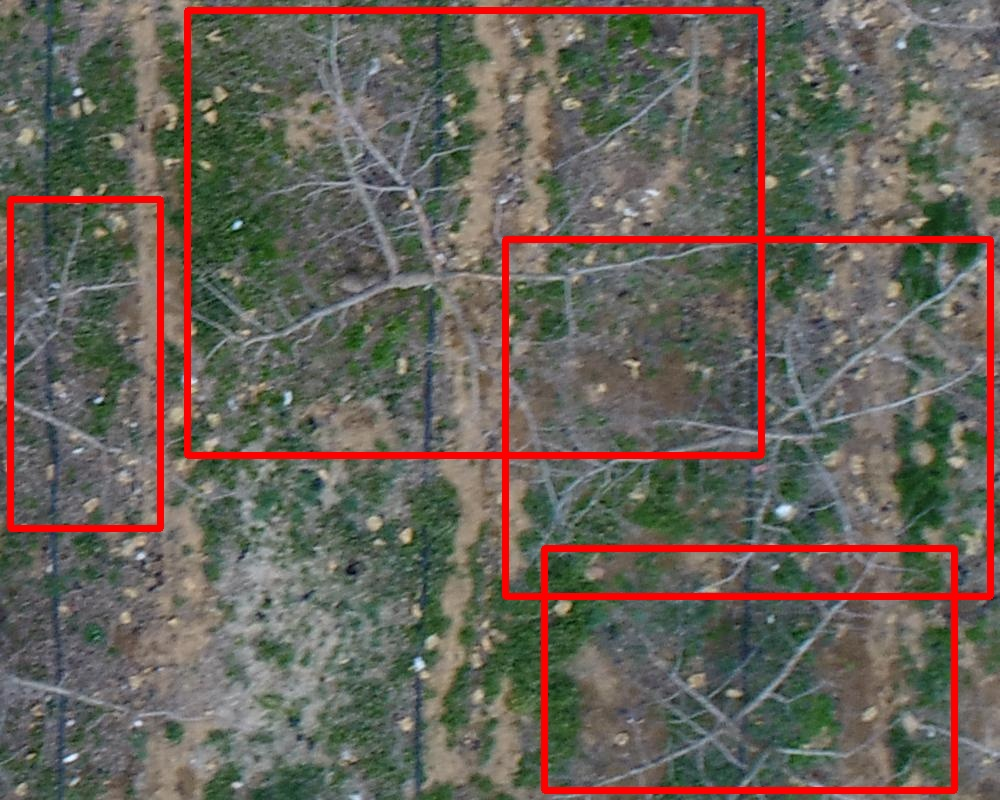apple: (187, 10, 761, 455), (505, 239, 990, 596), (544, 548, 954, 790), (10, 199, 160, 528)
